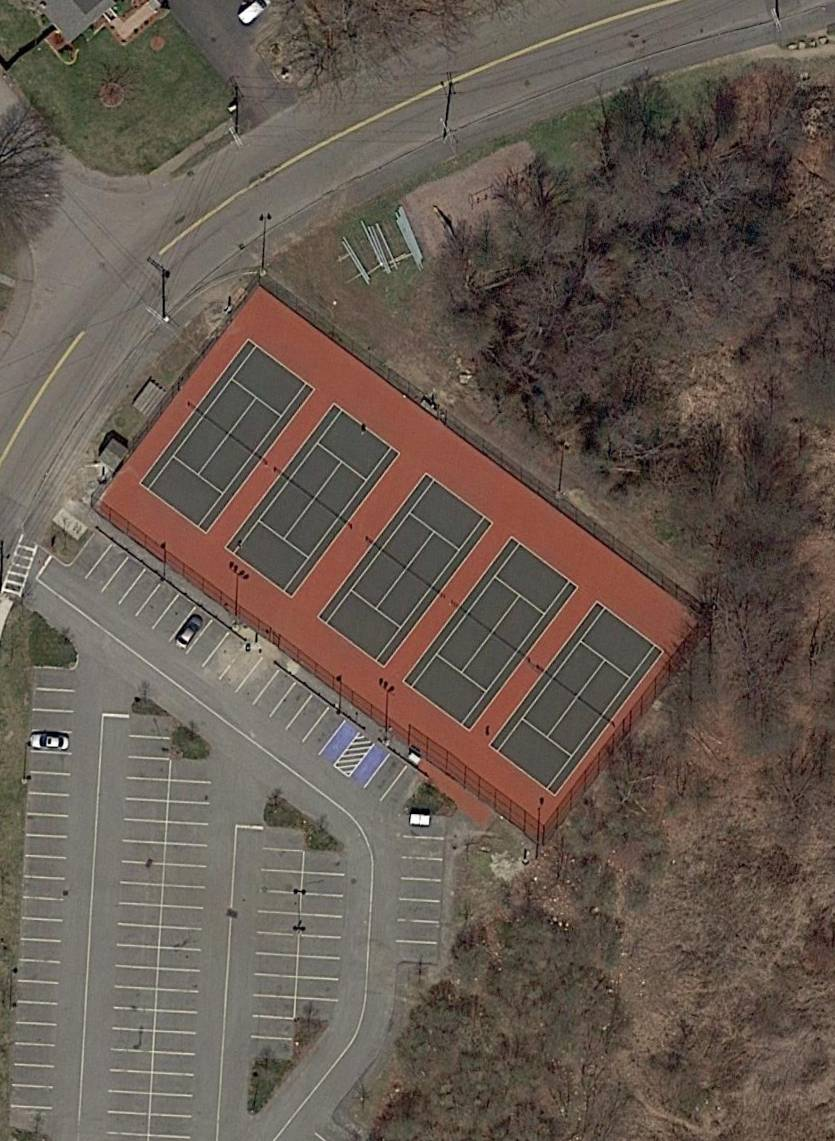small vehicle: (172, 610, 211, 654), (28, 731, 72, 752)
tennis court: (402, 535, 580, 733), (140, 338, 317, 535), (489, 602, 666, 797), (318, 474, 494, 668), (225, 402, 400, 597)
